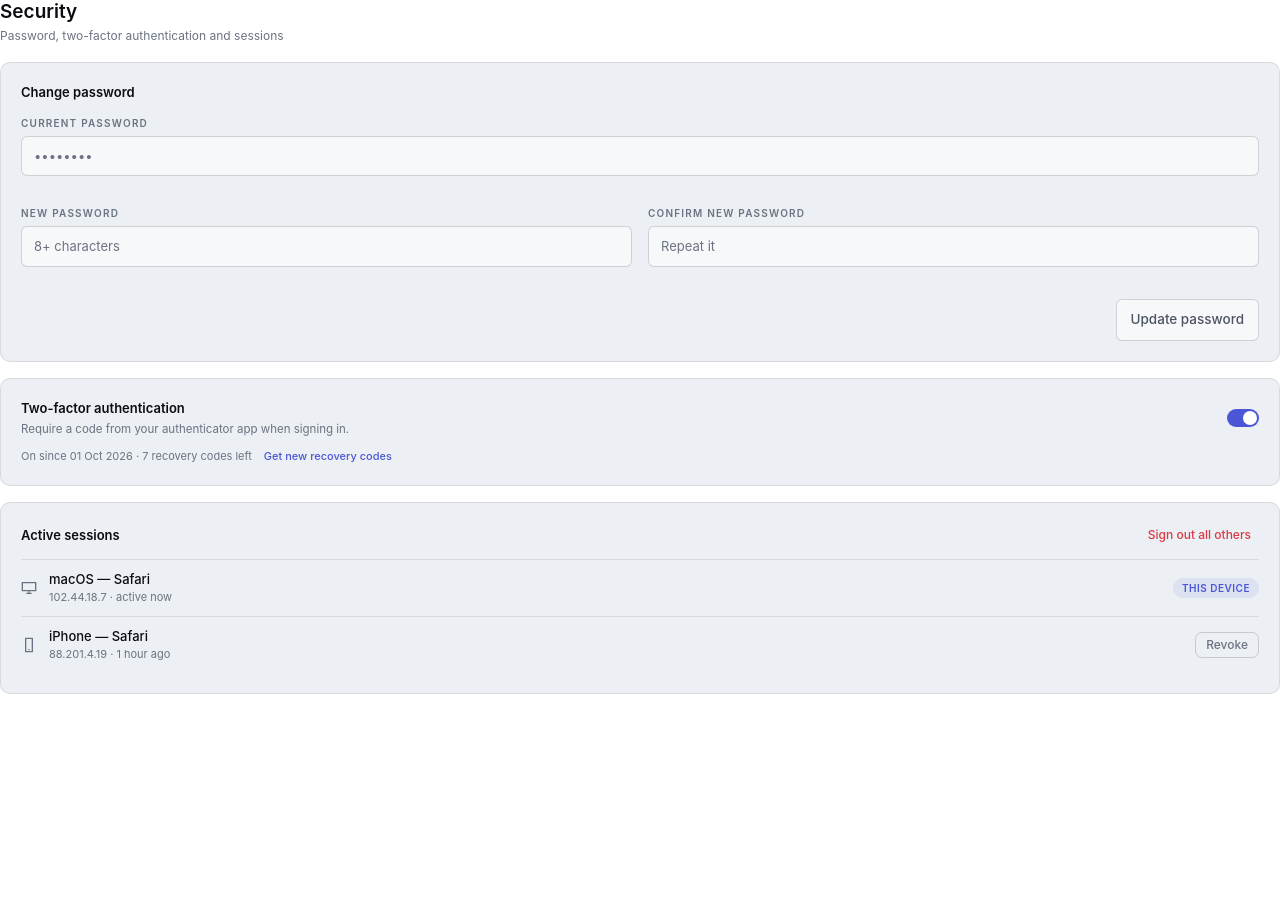
Scenario: SettingsSecurityPage › two-factor authentication › says when it is on and how many recovery codes are left, and turns off with a recovery code
This screenshot has width=1280, height=900.
Check: the text "On since 01 Oct 2026 · 7 recovery codes left" is shown, box [21,449,252,465]
Click the switch named "two-factor" at (1243, 418), box [1227,409,1259,427]
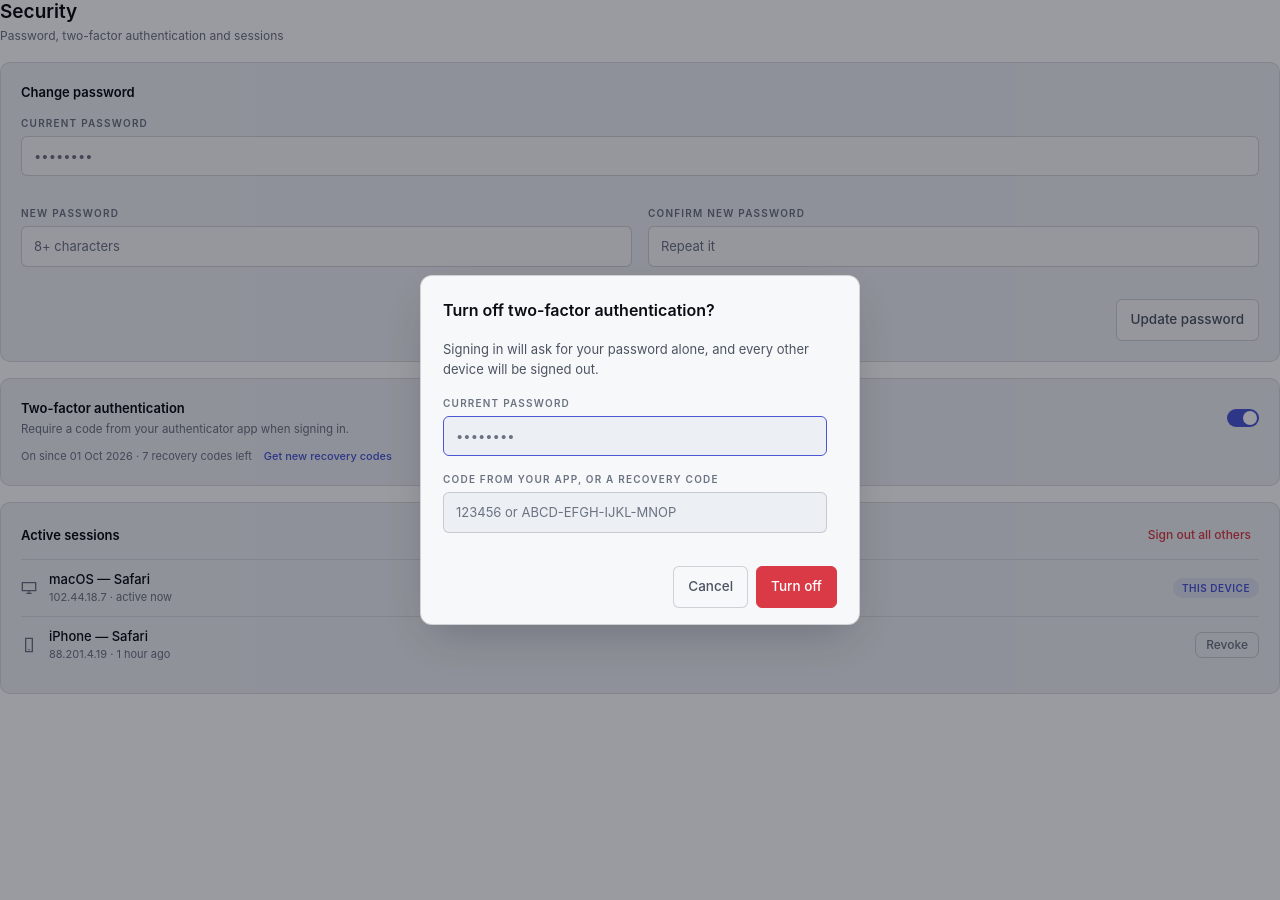
Type "secret123" into the password field labelled "Current password" at (635, 436), box [443,416,827,456]
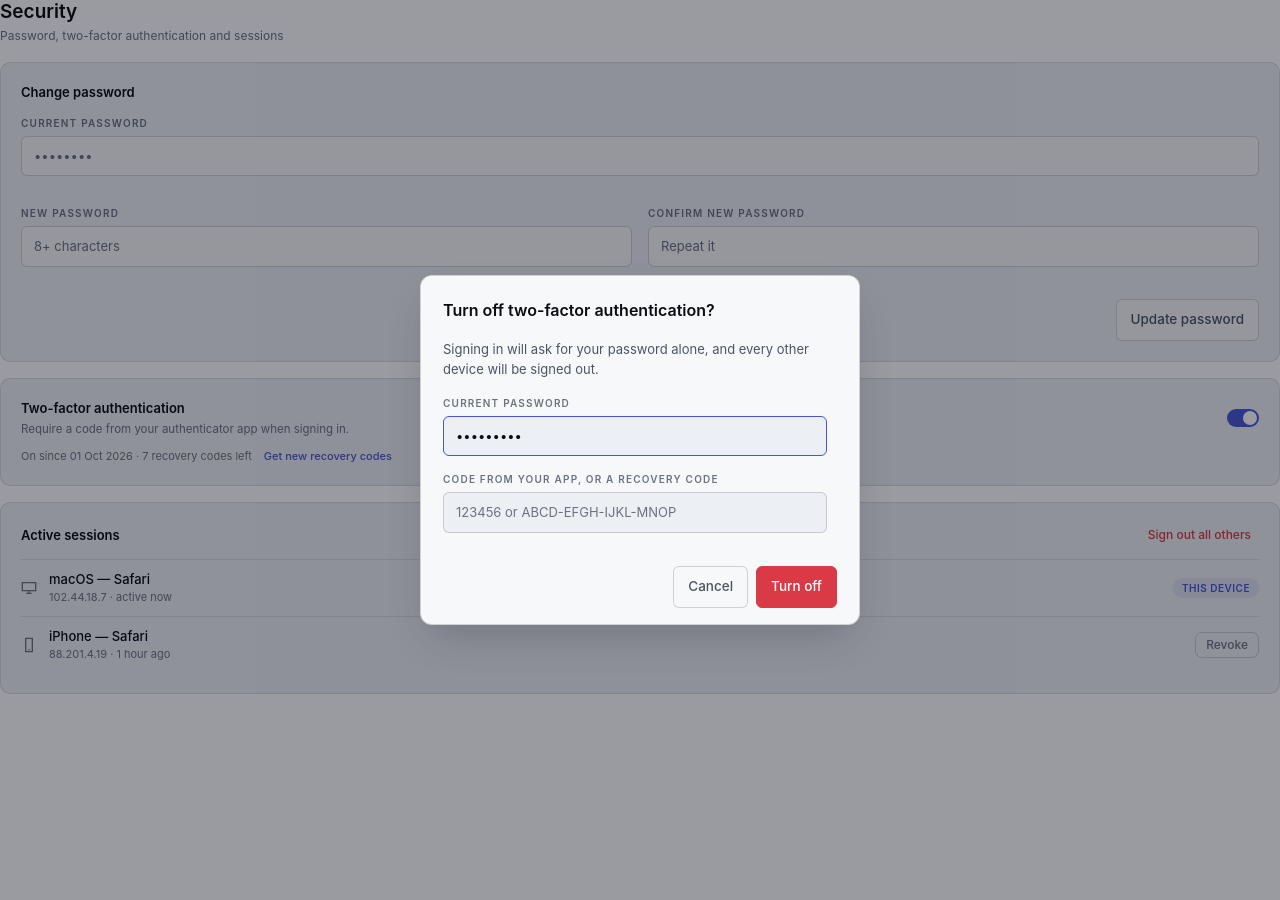
Type "aaaa-bbbb-cccc-dddd" into the field labelled "Code from your app, or a recovery code" at (635, 513), box [443,492,827,533]
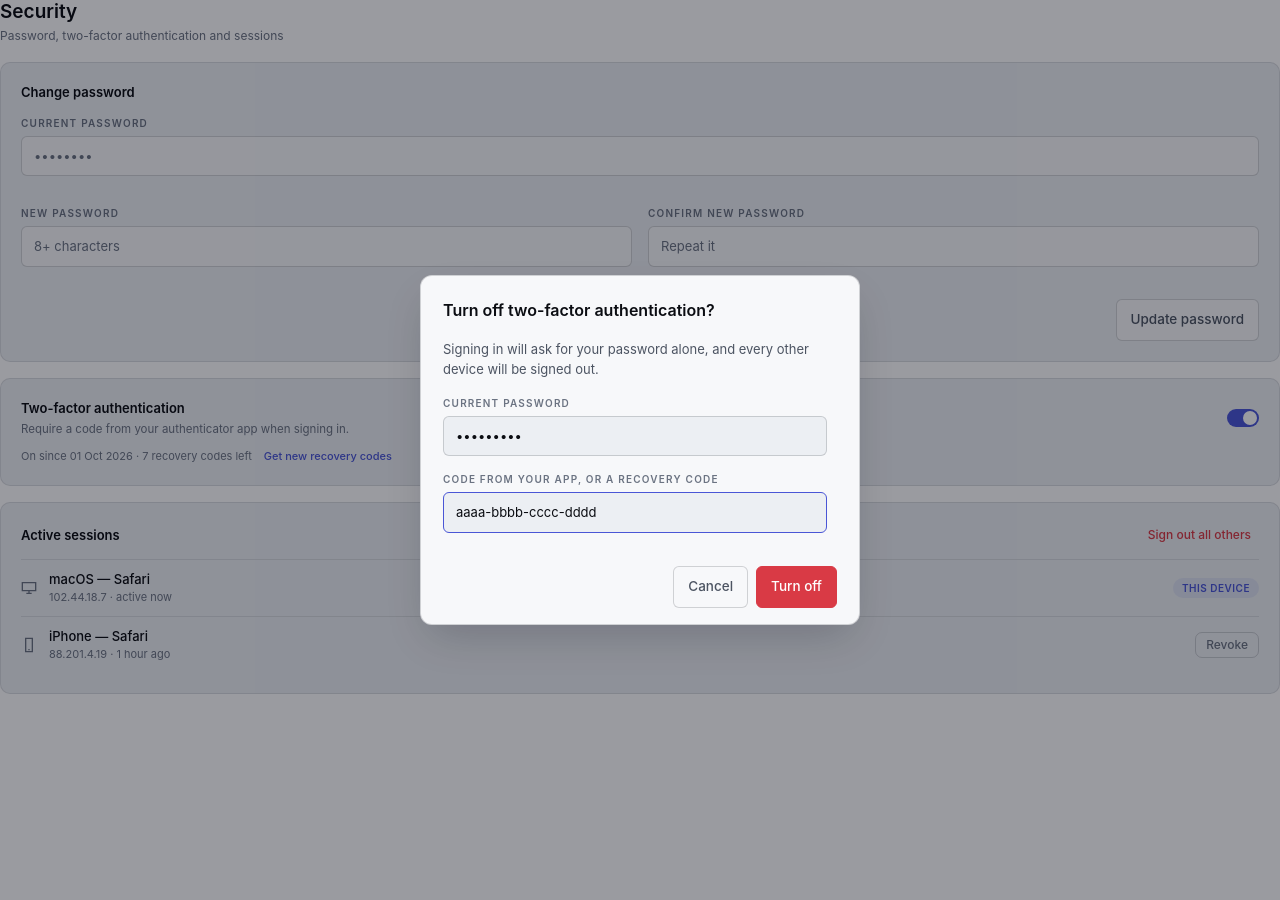
Click the button "Turn off" at (797, 587), box [756,566,837,608]
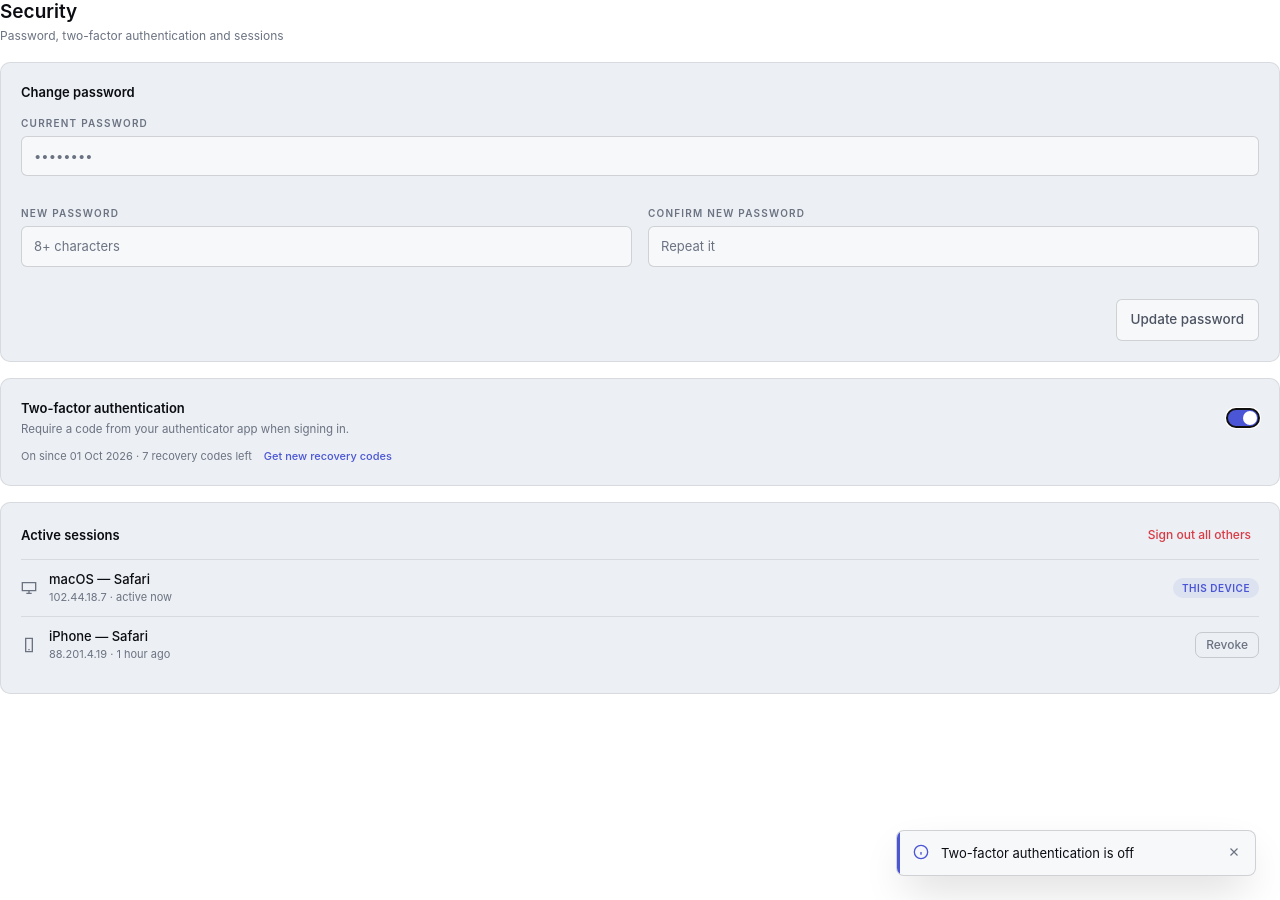
Check: the text "Two-factor authentication is off" is shown, box [941,845,1134,861]
